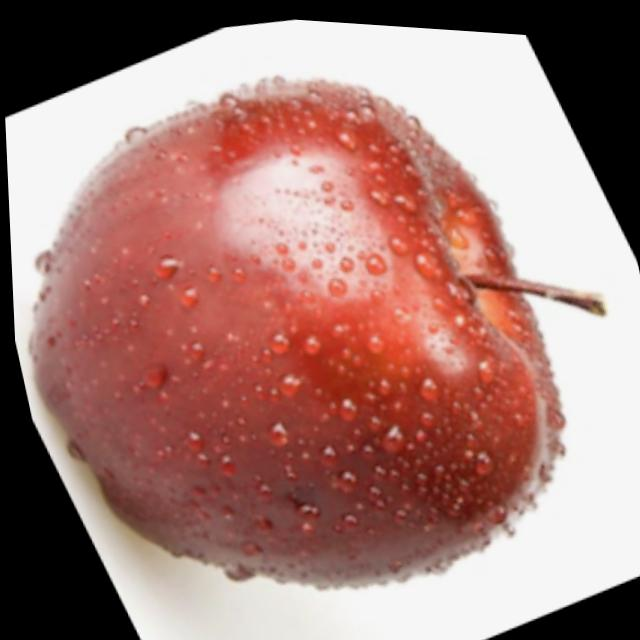organik: (1, 26, 596, 609)
